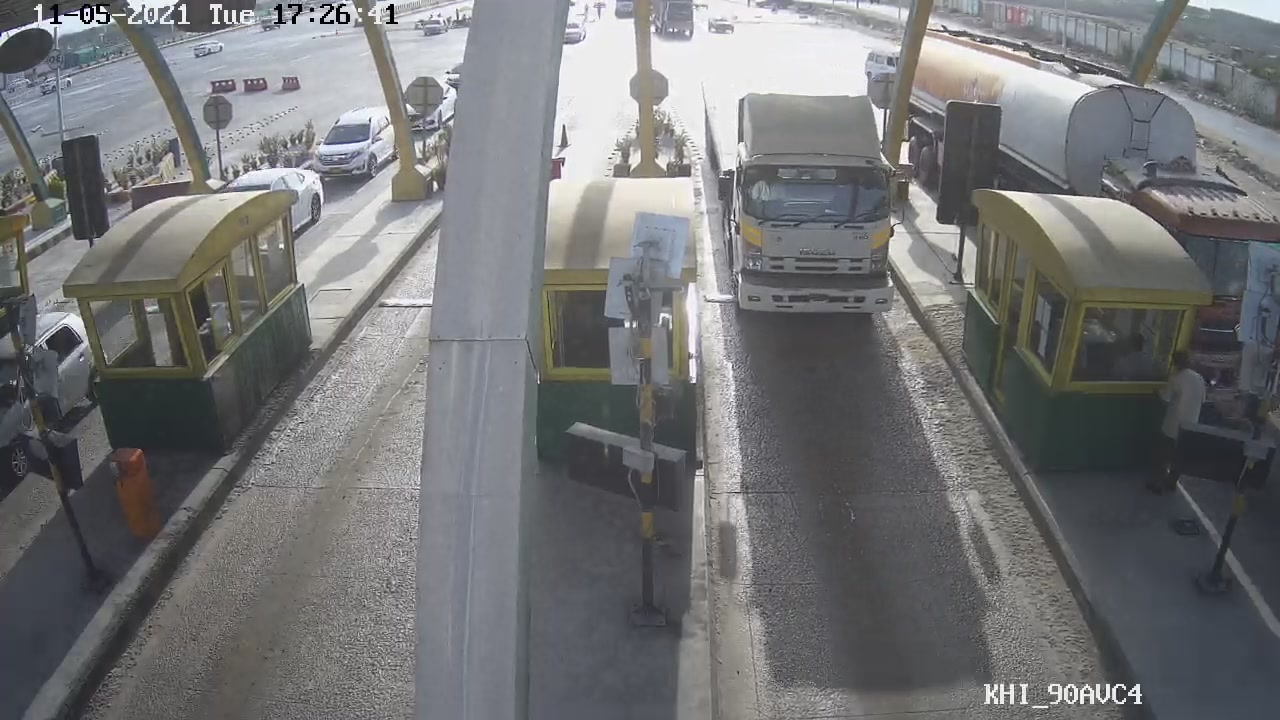F6: (692, 92, 921, 324)
